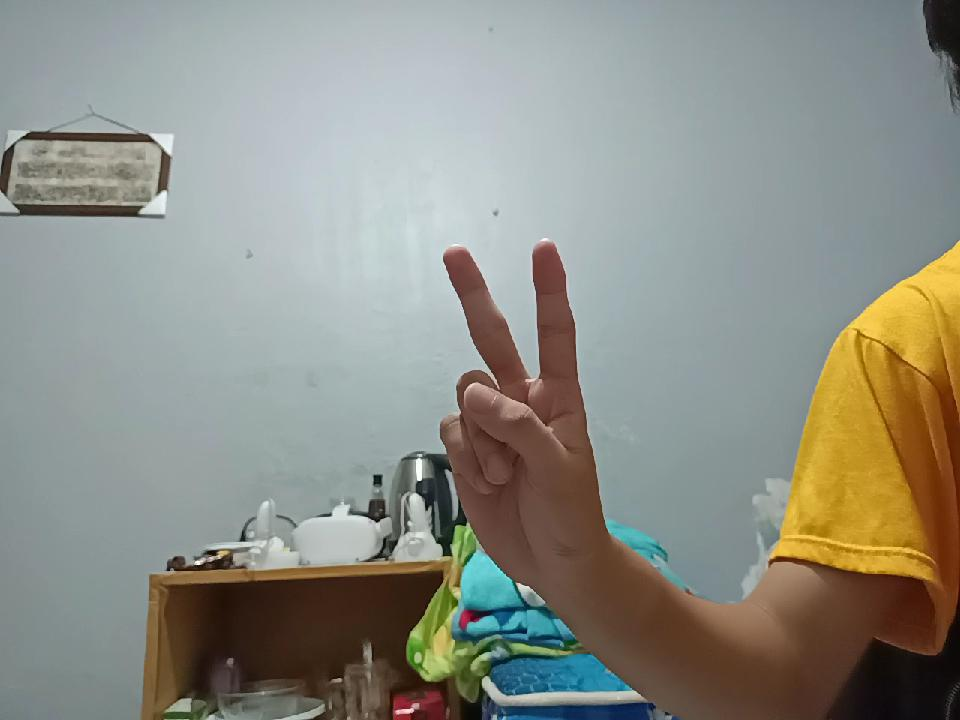scissors: (436, 229, 610, 583)
